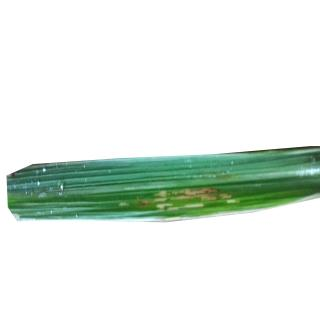Hawar-Daun: (142, 185, 233, 212), (120, 175, 150, 209)
